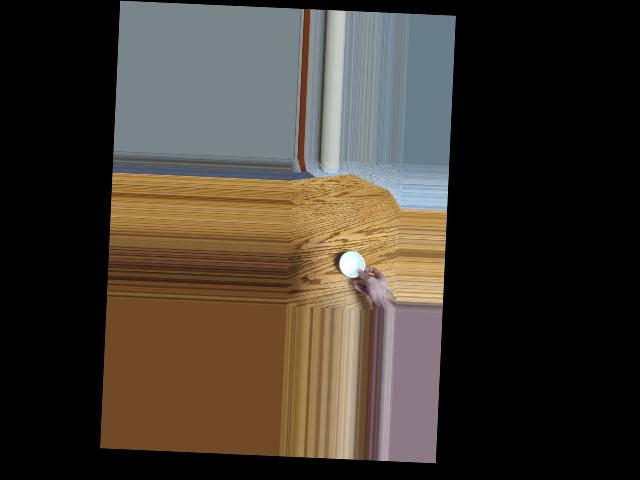cotage: (336, 250, 368, 278)
